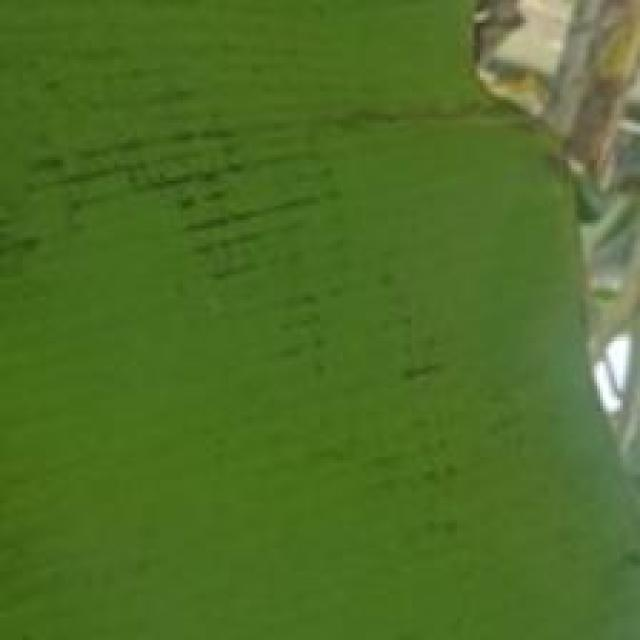Black_leaf_spot: (0, 4, 589, 606)
